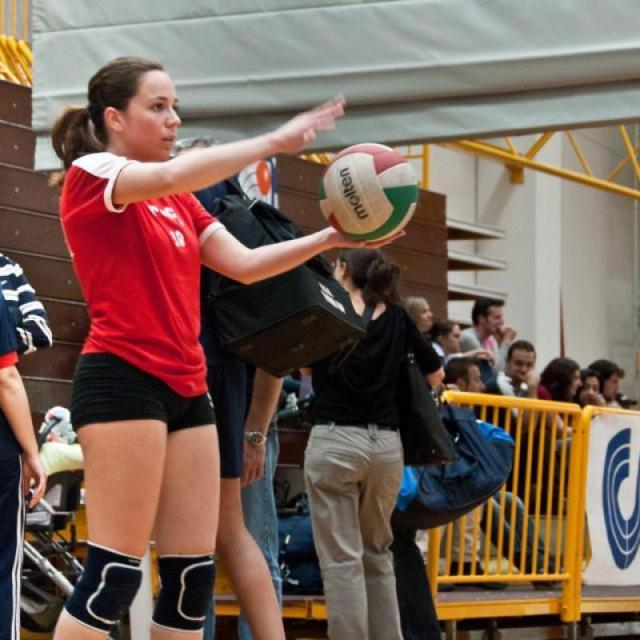volleyball: (320, 141, 419, 243)
